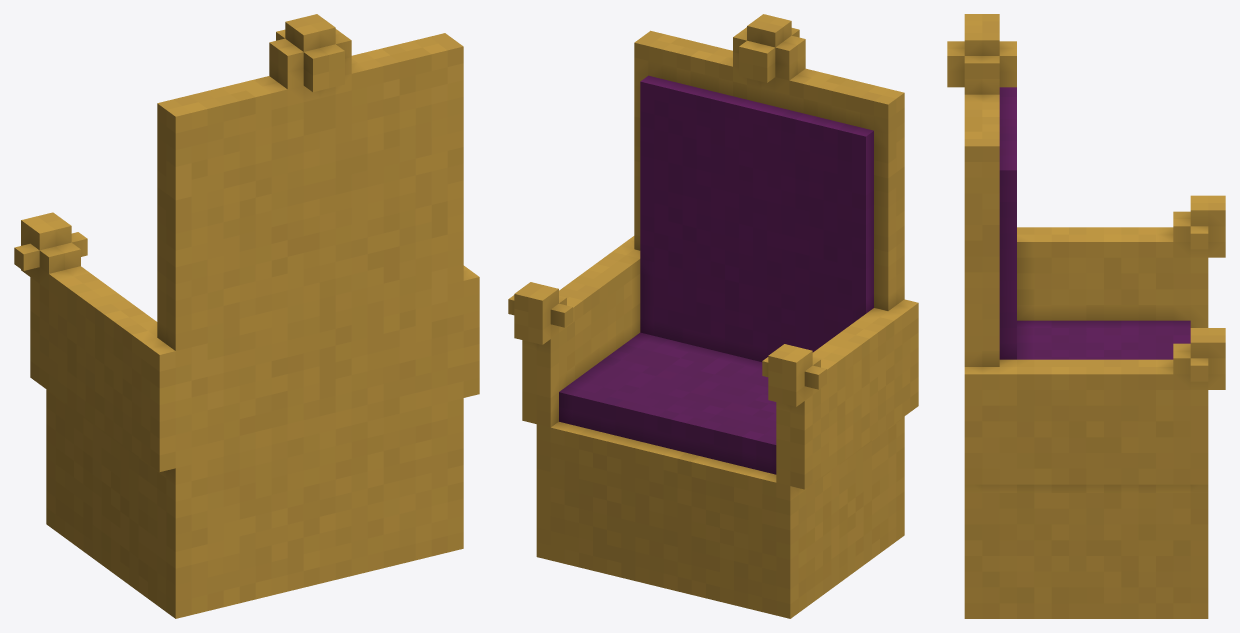
File: throne.glb
3 renders of one model, left to right at view 1: azimuth 30°, elevation 25°; view 2: azimuth 150°, elevation 25°; view 3: azimuth 270°, elevation 25°, orthographic. The views are drawn at different scales.
Visible parts, largest first — view 1: throne; view 2: throne; view 3: throne.
Part boxes in pixels (x1,y1,x2,y2): throne: (14, 14, 479, 618); throne: (508, 14, 918, 618); throne: (947, 14, 1225, 618).
Bounding box in the file's own units: 1.1 × 1.65 × 0.8.
